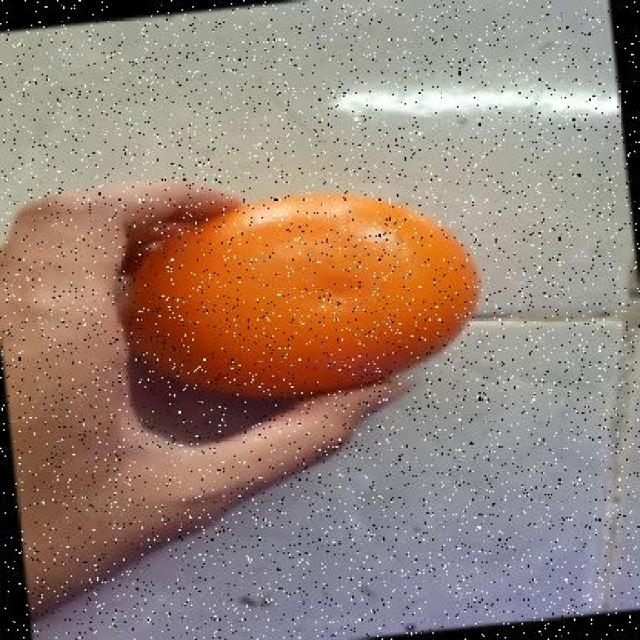Orange: (123, 189, 480, 400)
